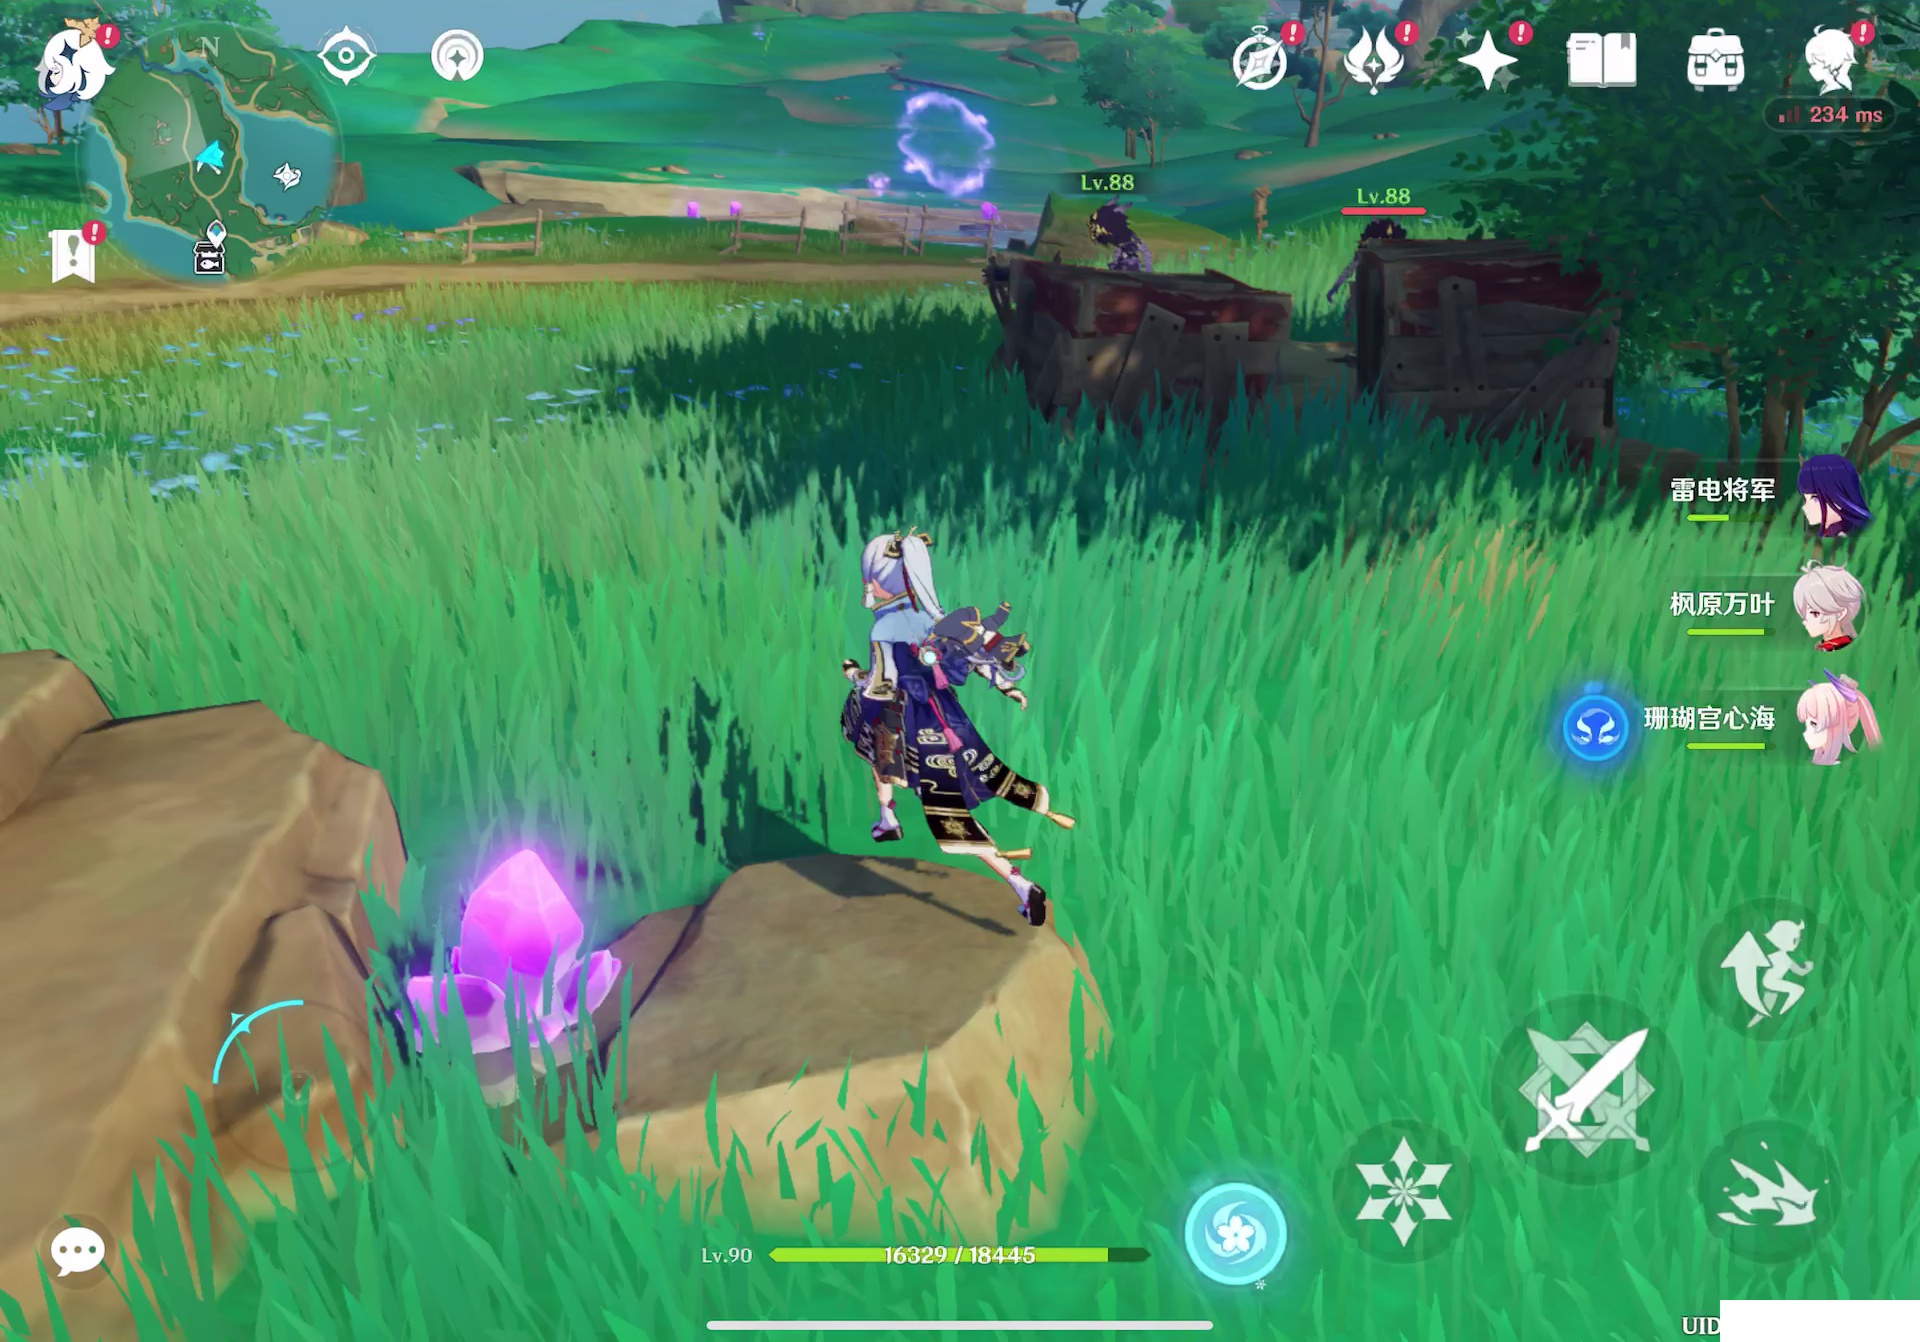丘丘人: (1085, 206, 1163, 270)
神里绫龟: (778, 505, 1080, 899)
紫矿石: (388, 850, 622, 1056)
